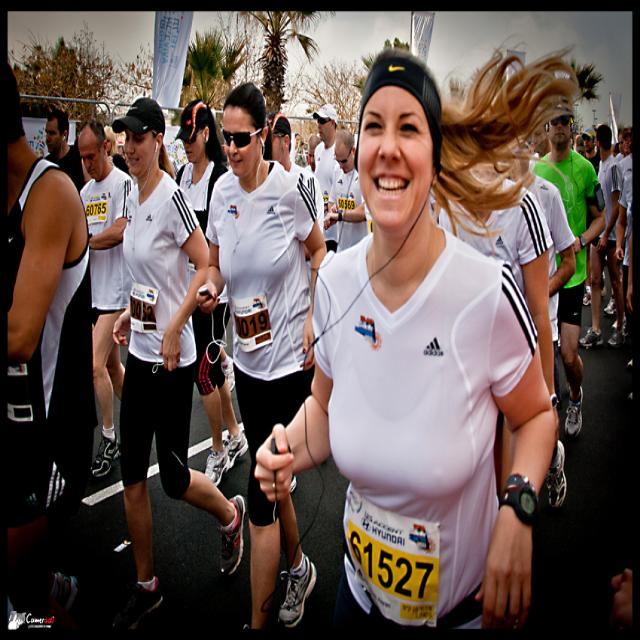Bib: (354, 535, 434, 603), (85, 200, 108, 218)
